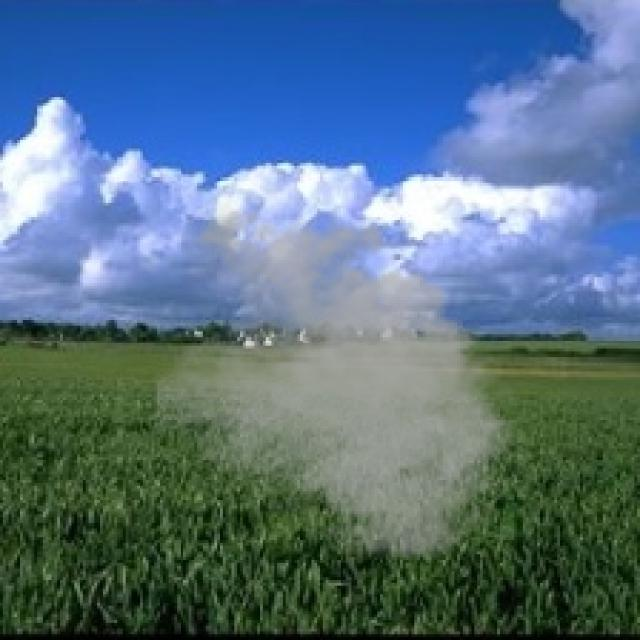smoke: (152, 197, 528, 569)
